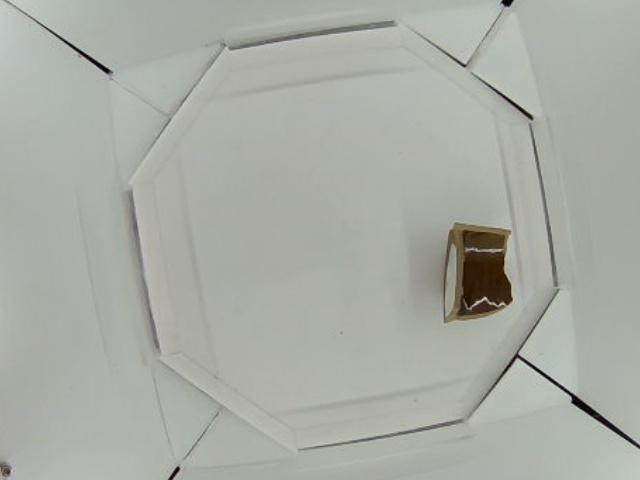China: (440, 221, 518, 319)
